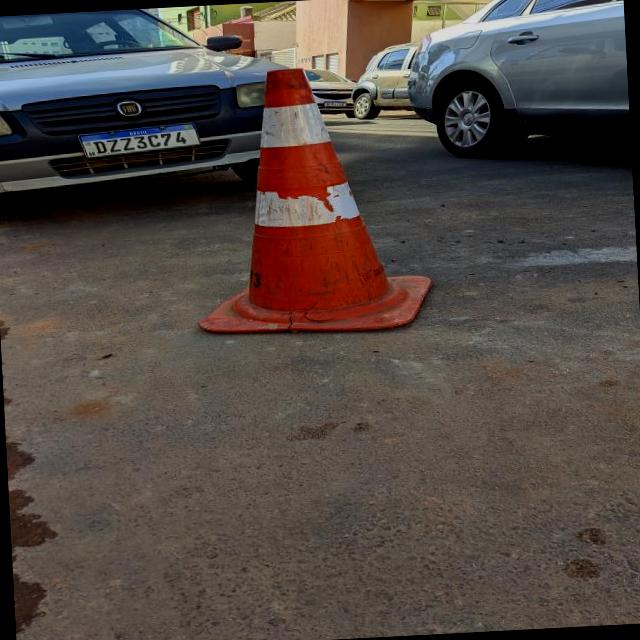Cone: (177, 58, 442, 343)
